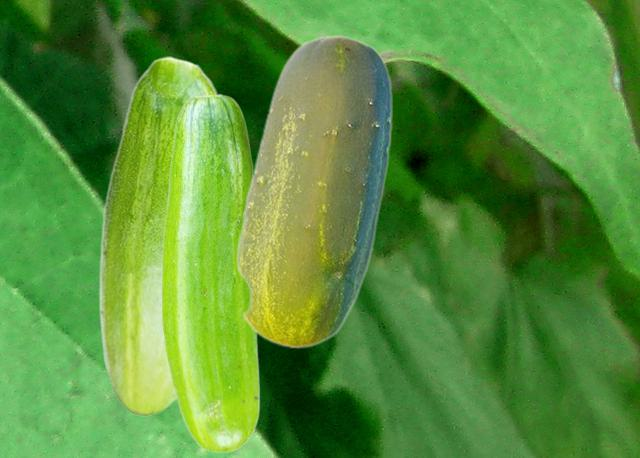cucumber: (235, 34, 391, 348), (98, 56, 219, 415), (161, 93, 259, 452)
